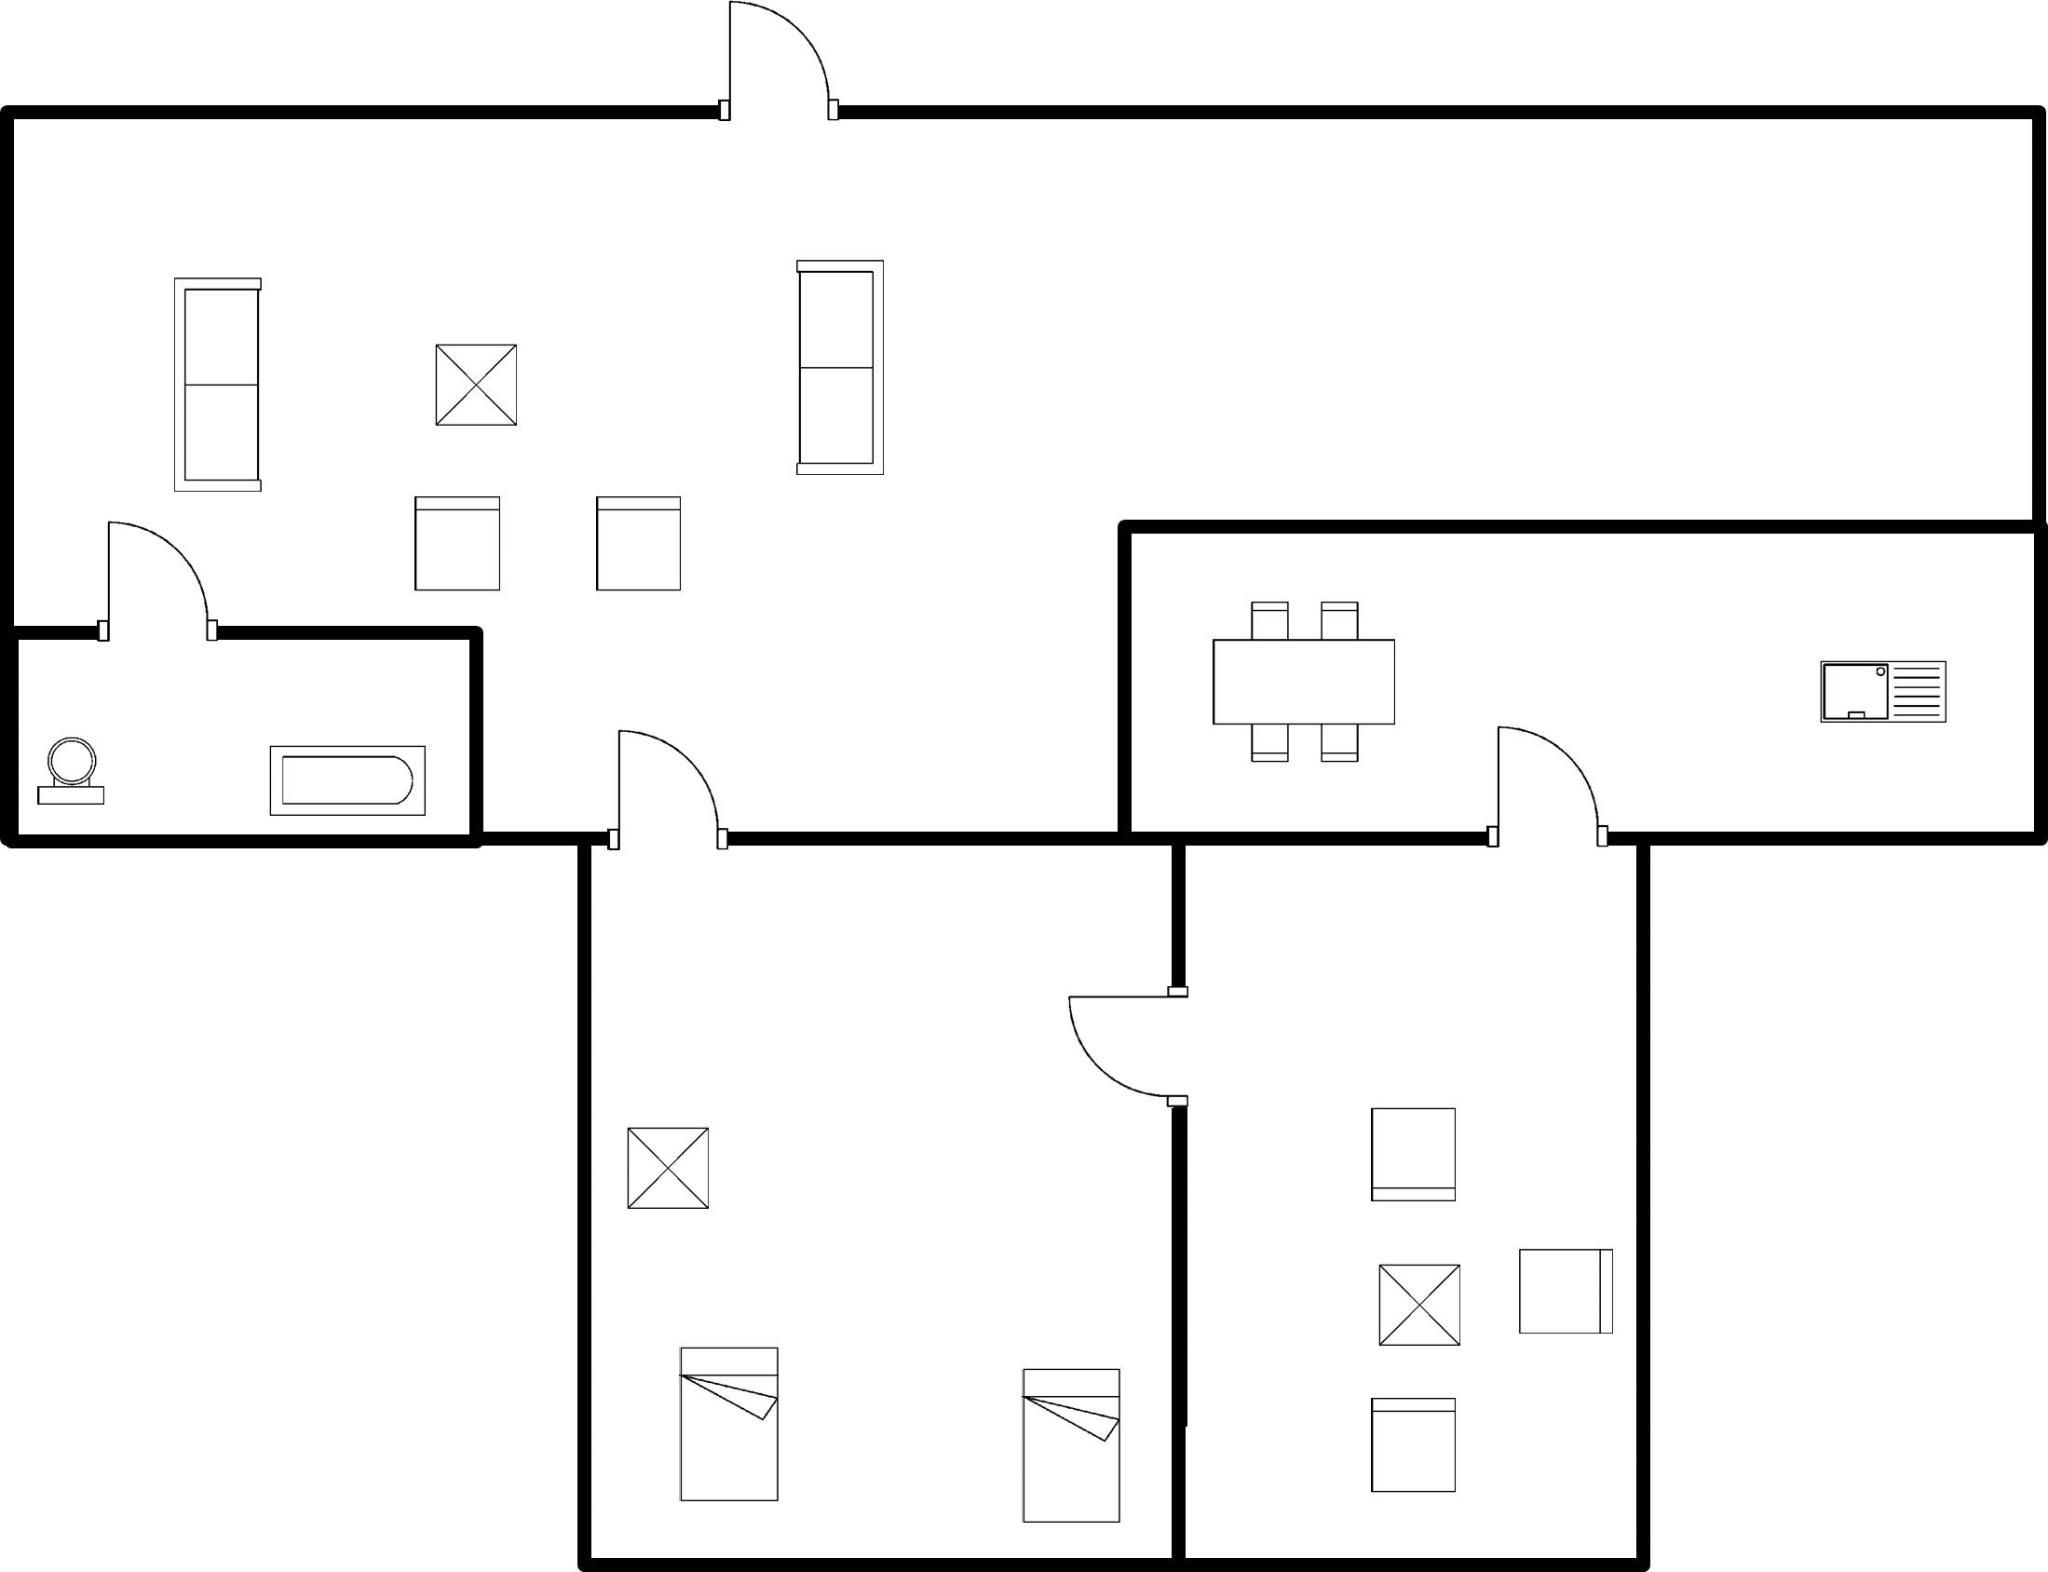bed: (1009, 1359, 1135, 1536), (667, 1338, 789, 1513)
dining_table: (1201, 586, 1407, 773)
sink: (1804, 649, 1952, 740)
sofa: (155, 261, 276, 500), (785, 246, 892, 490)
toilet: (28, 728, 117, 816)
tub: (259, 733, 436, 827)
